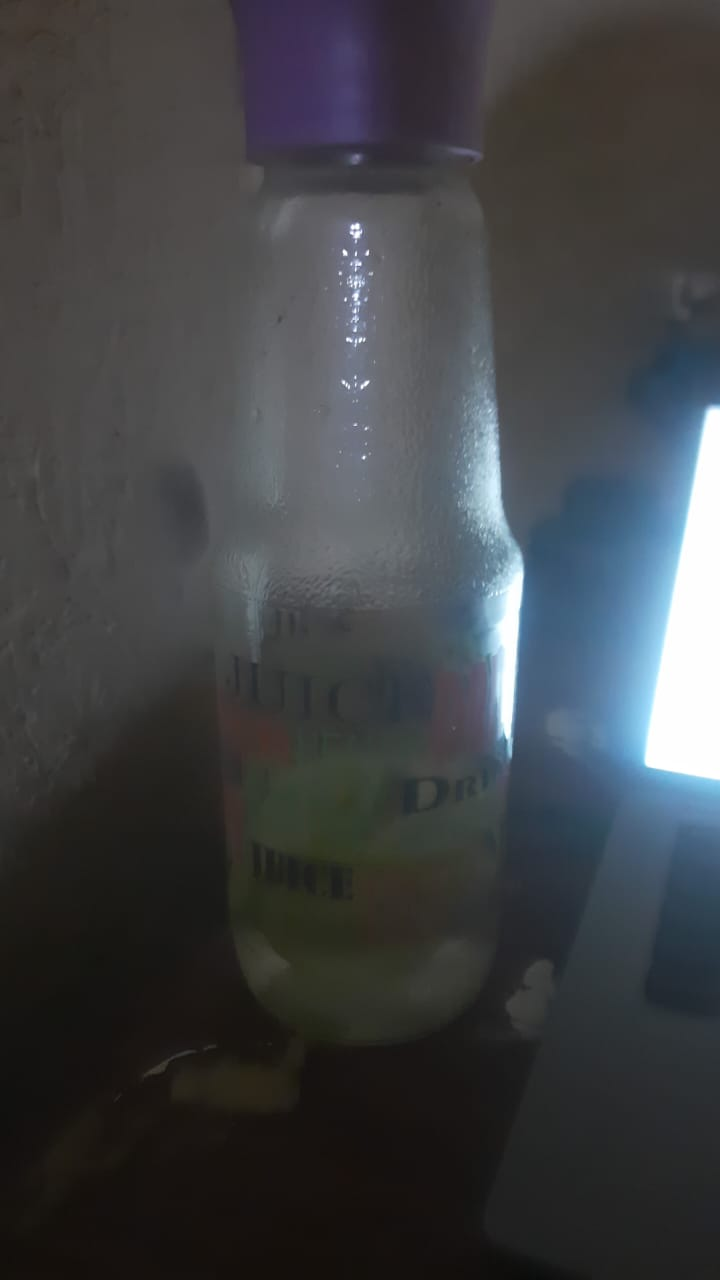bottle: (221, 2, 504, 1026)
